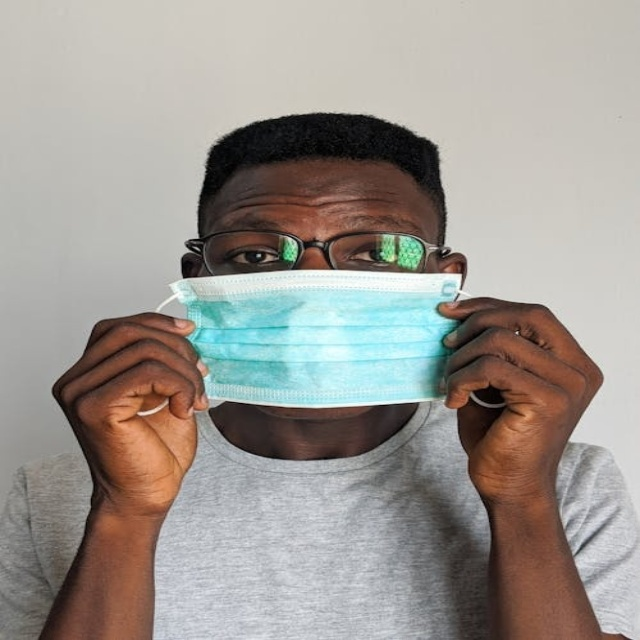Gafas: (183, 229, 451, 275)
Mascara: (163, 268, 476, 406)
Sin_guantes: (433, 294, 611, 510), (54, 306, 218, 520)
